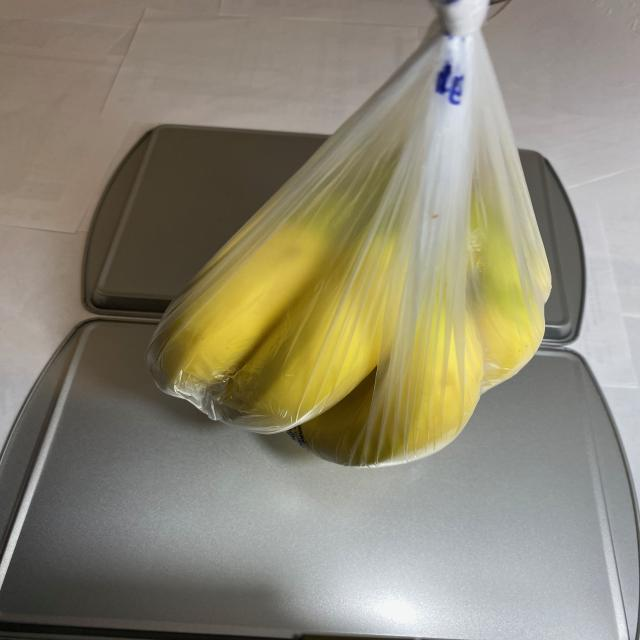banana: (139, 157, 553, 472)
